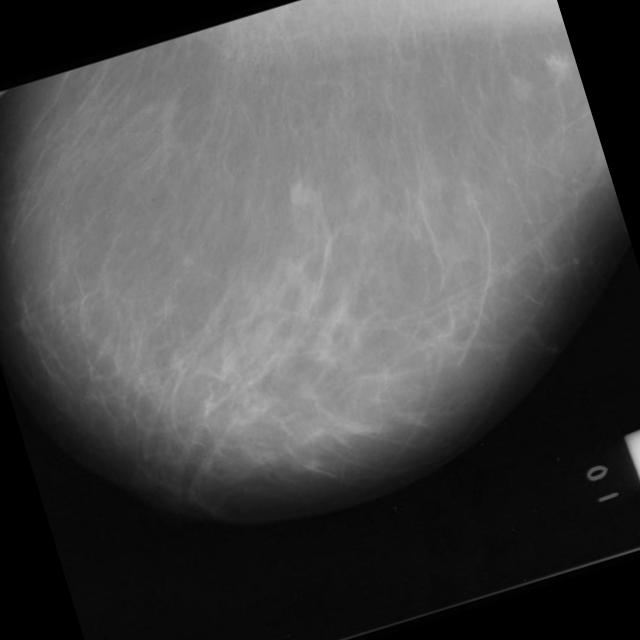MISC: (534, 43, 580, 88)
